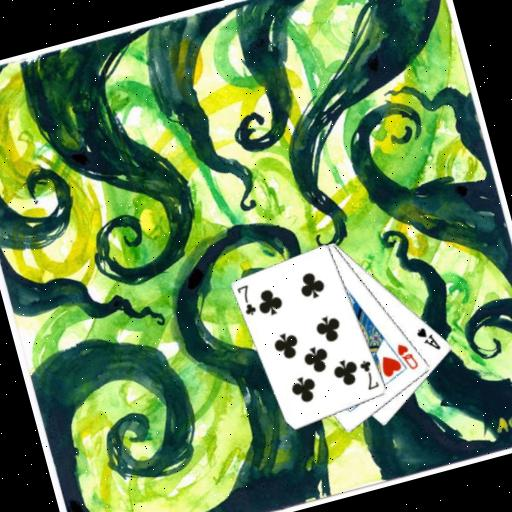7C: (355, 355, 381, 393), (233, 281, 259, 319)
AS: (412, 320, 443, 356)
QH: (392, 337, 421, 374)
